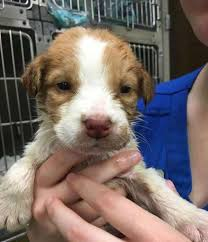dog: (26, 28, 157, 156)
